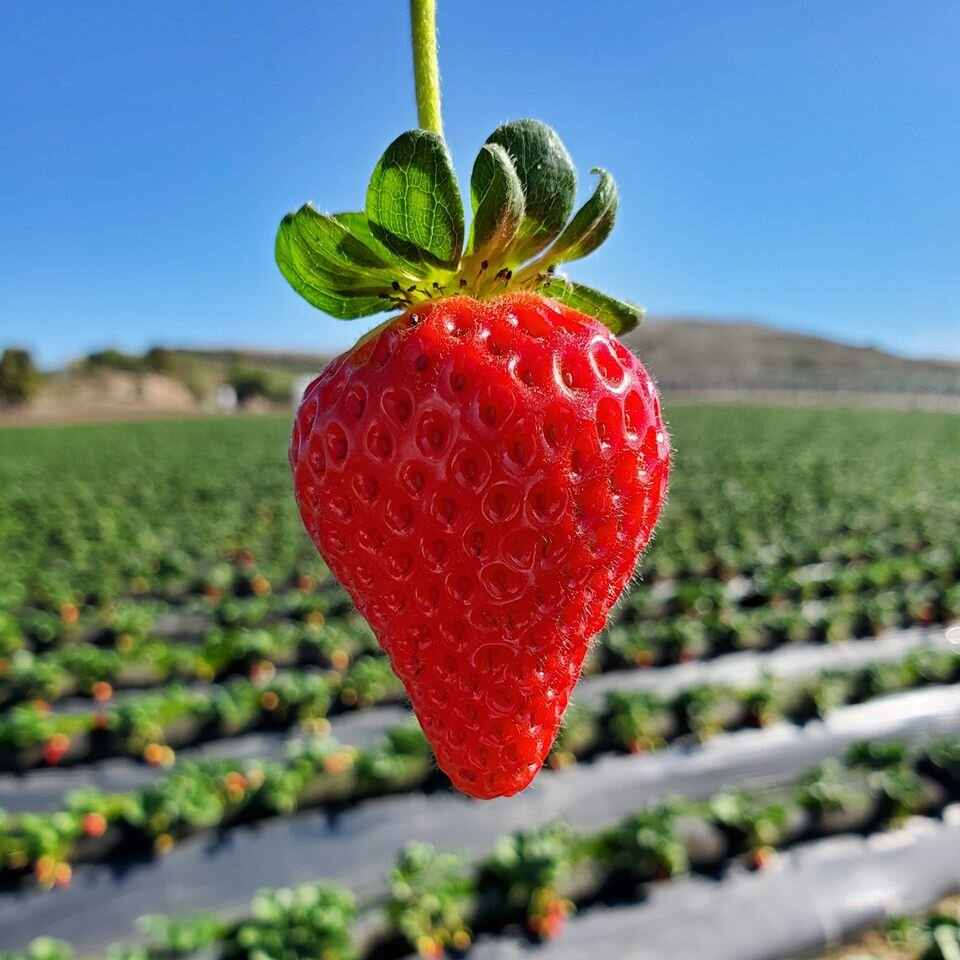ripe: (288, 296, 663, 811)
